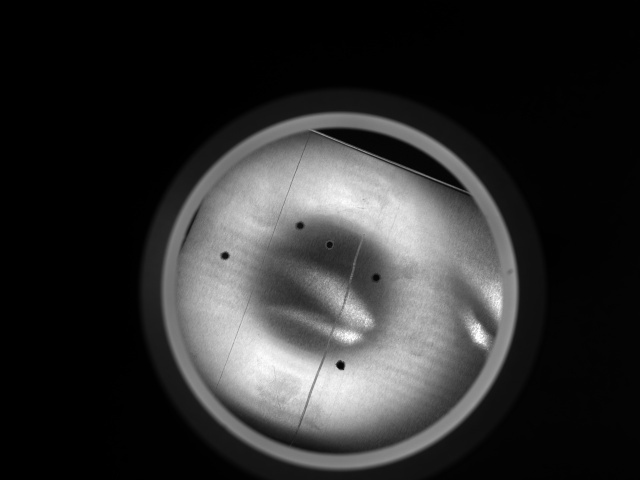ca_shang: (217, 135, 306, 405), (298, 151, 377, 423)
zhen_kong: (288, 215, 314, 239), (215, 244, 240, 267), (329, 356, 355, 377), (319, 234, 342, 256), (364, 268, 388, 289)
